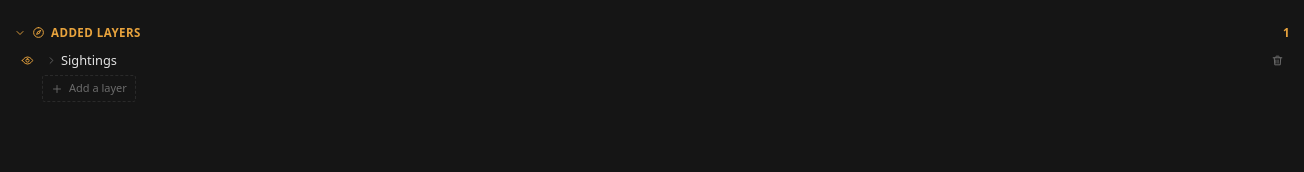
it: a row › renders from state, with where it came from and how fresh it is
Click the button with class "fold" at (89, 60), box [46,49,1262,72]
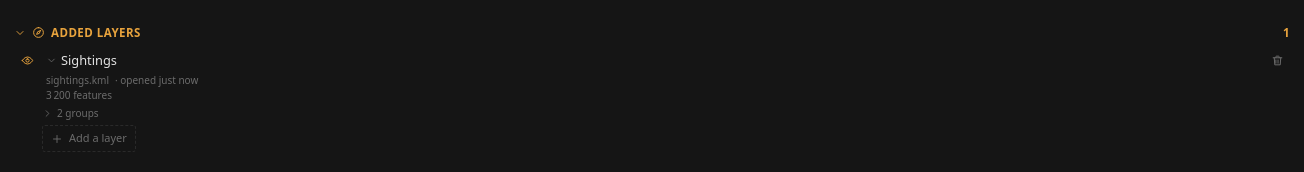
Expected: the text "Sightings" is shown, [61,51,117,69]
Now the text "sightings.kml" is shown, box [46,73,109,88]
Now the text "opened" is shown, box [120,73,198,87]
